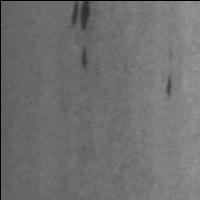inclusion: (68, 1, 95, 35), (161, 68, 178, 103), (77, 44, 93, 73)
